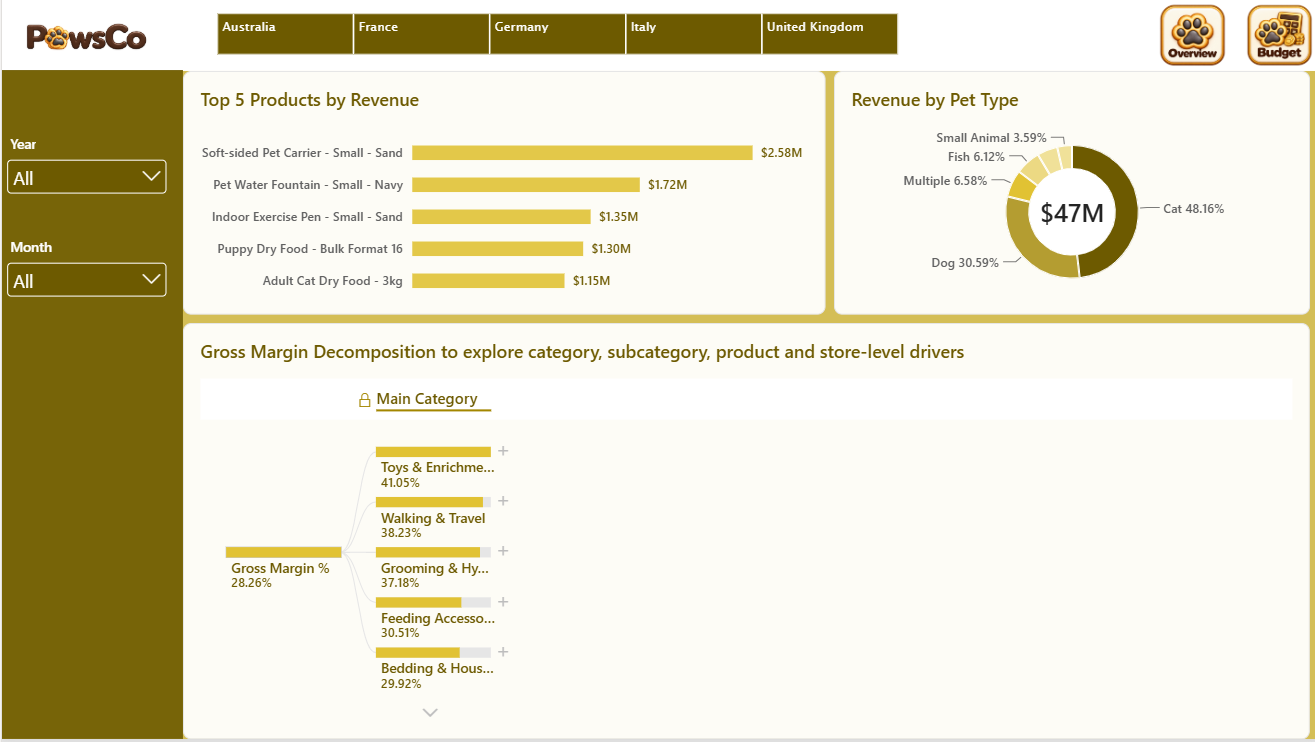

The page's visual inventory and layout, read from the dashboard file:
{"tool":"powerbi","page":{"name":"Product","canvas":[1280,720],"ordinal":1},"visuals":[{"type":"shape","box":[0,0,1280,70],"z":0},{"type":"image","box":[0,0,164,70],"z":1000},{"type":"shape","box":[0,69.4,176.4,650.6],"z":2000},{"type":"barChart","title":"Top 5 Products by Revenue","fields":{"Category":["Porduct.Category Hierarchy.ProductName"],"Y":["Metrics.Total Revenue"]},"box":[176,70,625,237],"z":3000},{"type":"decompositionTreeVisual","title":"Gross Margin Decomposition to explore category, subcategory, product and store-level drivers","fields":{"Analyze":["Metrics.Gross Margin %"],"ExplainBy":["Porduct.CategoryL1","store.StoreName","Porduct.ProductName","Porduct.CategoryL4","Porduct.CategoryL3"]},"box":[176,315,1096,405],"z":4000},{"type":"treemap","title":"TreeMap","fields":{"Group":["store.Store Location Hierarchy.StoreCountry"],"Values":["Metrics.Dummy Measure"]},"box":[194,0,694,70],"z":5000},{"type":"slicer","title":"Year Slicer","fields":{"Values":["Calendar.Calendar Hierarchy.Year"]},"box":[0,132,165,68],"z":6000},{"type":"slicer","title":"Month Slicer","fields":{"Values":["Calendar.Calendar Hierarchy.Month"]},"box":[0,232,165,68],"z":7000},{"type":"donutChart","title":"Revenue by Pet Type","fields":{"Category":["customer.PetType"],"Y":["Metrics.Total Revenue"]},"box":[808.9,70.1,463,237],"z":8000},{"type":"image","box":[1204.9,0,75,70.1],"z":9000},{"type":"image","box":[1120,0,75,70.1],"z":10000}]}

Visuals, with their boxes in screenshot pixels (x1, y1, x2, y2), scaled from the page's 1280x720 canvas onto the 1315x742 screenshot:
shape: 0, 0, 1314, 72
image: 0, 0, 168, 72
shape: 0, 72, 181, 741
"Top 5 Products by Revenue" barChart: 181, 72, 823, 316
"Gross Margin Decomposition to explore category, subcategory, product and store-level drivers" decompositionTreeVisual: 181, 325, 1307, 741
"TreeMap" treemap: 199, 0, 912, 72
"Year Slicer" slicer: 0, 136, 170, 206
"Month Slicer" slicer: 0, 239, 170, 309
"Revenue by Pet Type" donutChart: 831, 72, 1307, 316
image: 1238, 0, 1314, 72
image: 1151, 0, 1228, 72
